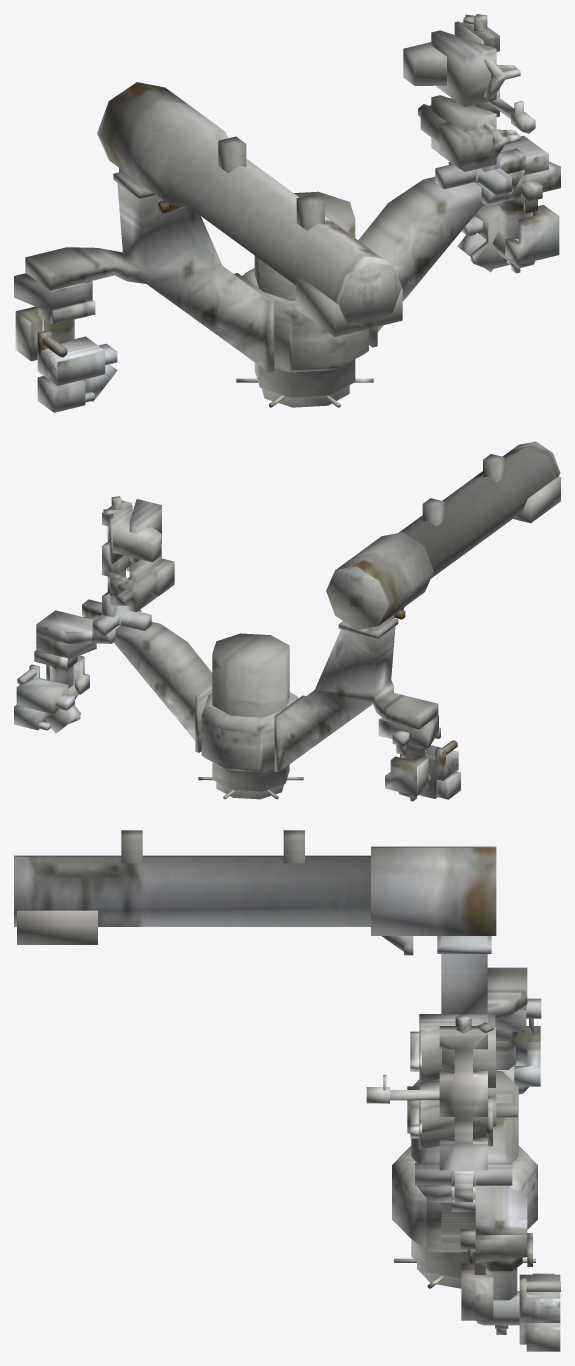
File: tool_platform.dae
3 renders of one model, top to bottom at view 1: azimuth 30°, elevation 25°; view 2: azimuth 150°, elevation 25°; view 3: azimuth 270°, elevation 25°, orthographic. The views are drawn at different scales.
Visible parts, largest first — view 1: 29 DEXTRE.002; view 2: 29 DEXTRE.002; view 3: 29 DEXTRE.002.
Part boxes in pixels (x1=…): 29 DEXTRE.002: x1=14, y1=14, x2=560, y2=412; 29 DEXTRE.002: x1=14, y1=441, x2=560, y2=801; 29 DEXTRE.002: x1=14, y1=830, x2=560, y2=1351.
Bounding box in the file's own units: 3.01 × 2.63 × 1.89.
Materials: 1 (1 with a texture image).
